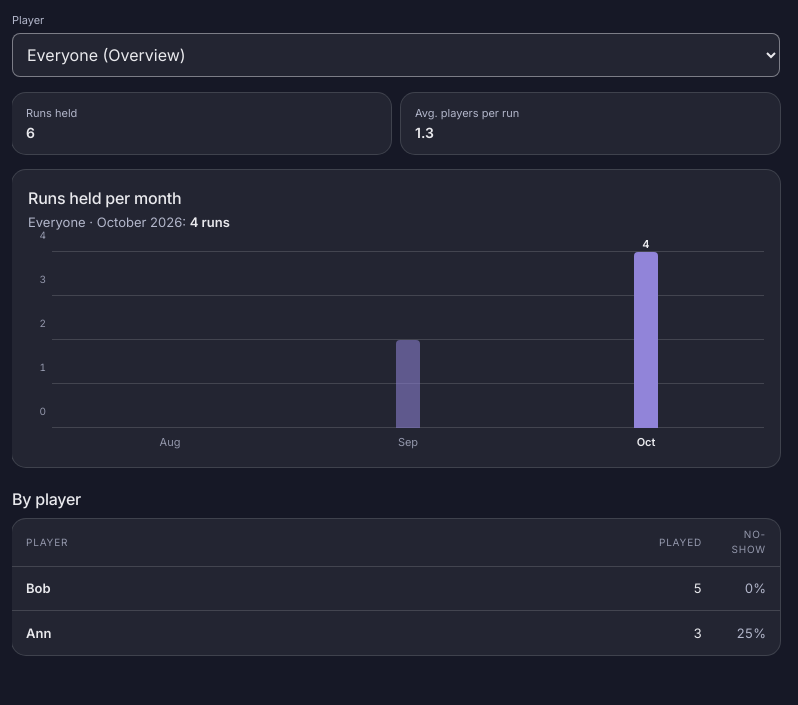
Test: StatsView overview › opens a player from the ranking
What coordinates should you click on to do the following:
click the button "Ann 3 25%"
I would click on:
 (39, 633)
Its box is [12, 611, 780, 655].
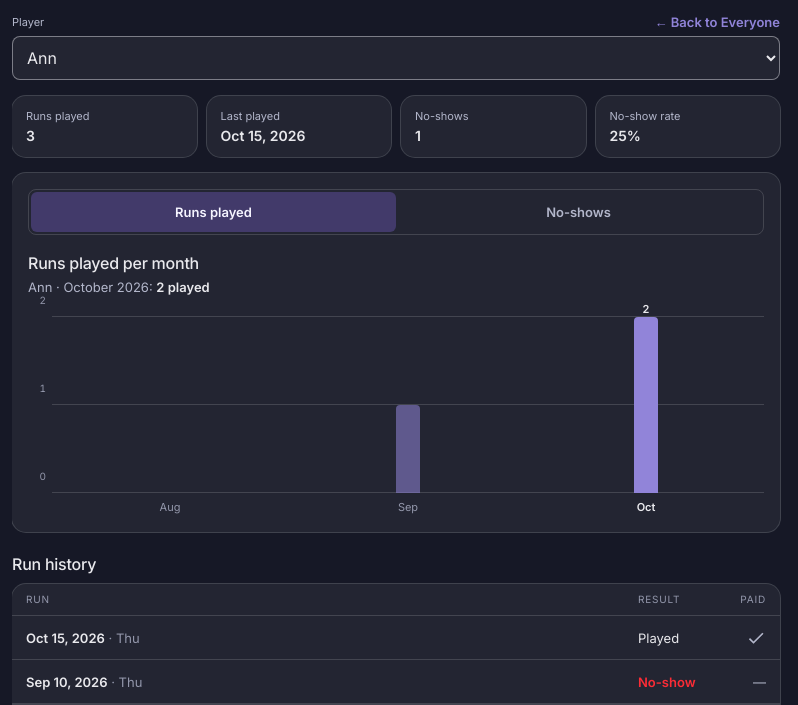
Check: the button "← Back to Everyone" is shown, box [654, 12, 780, 32]
